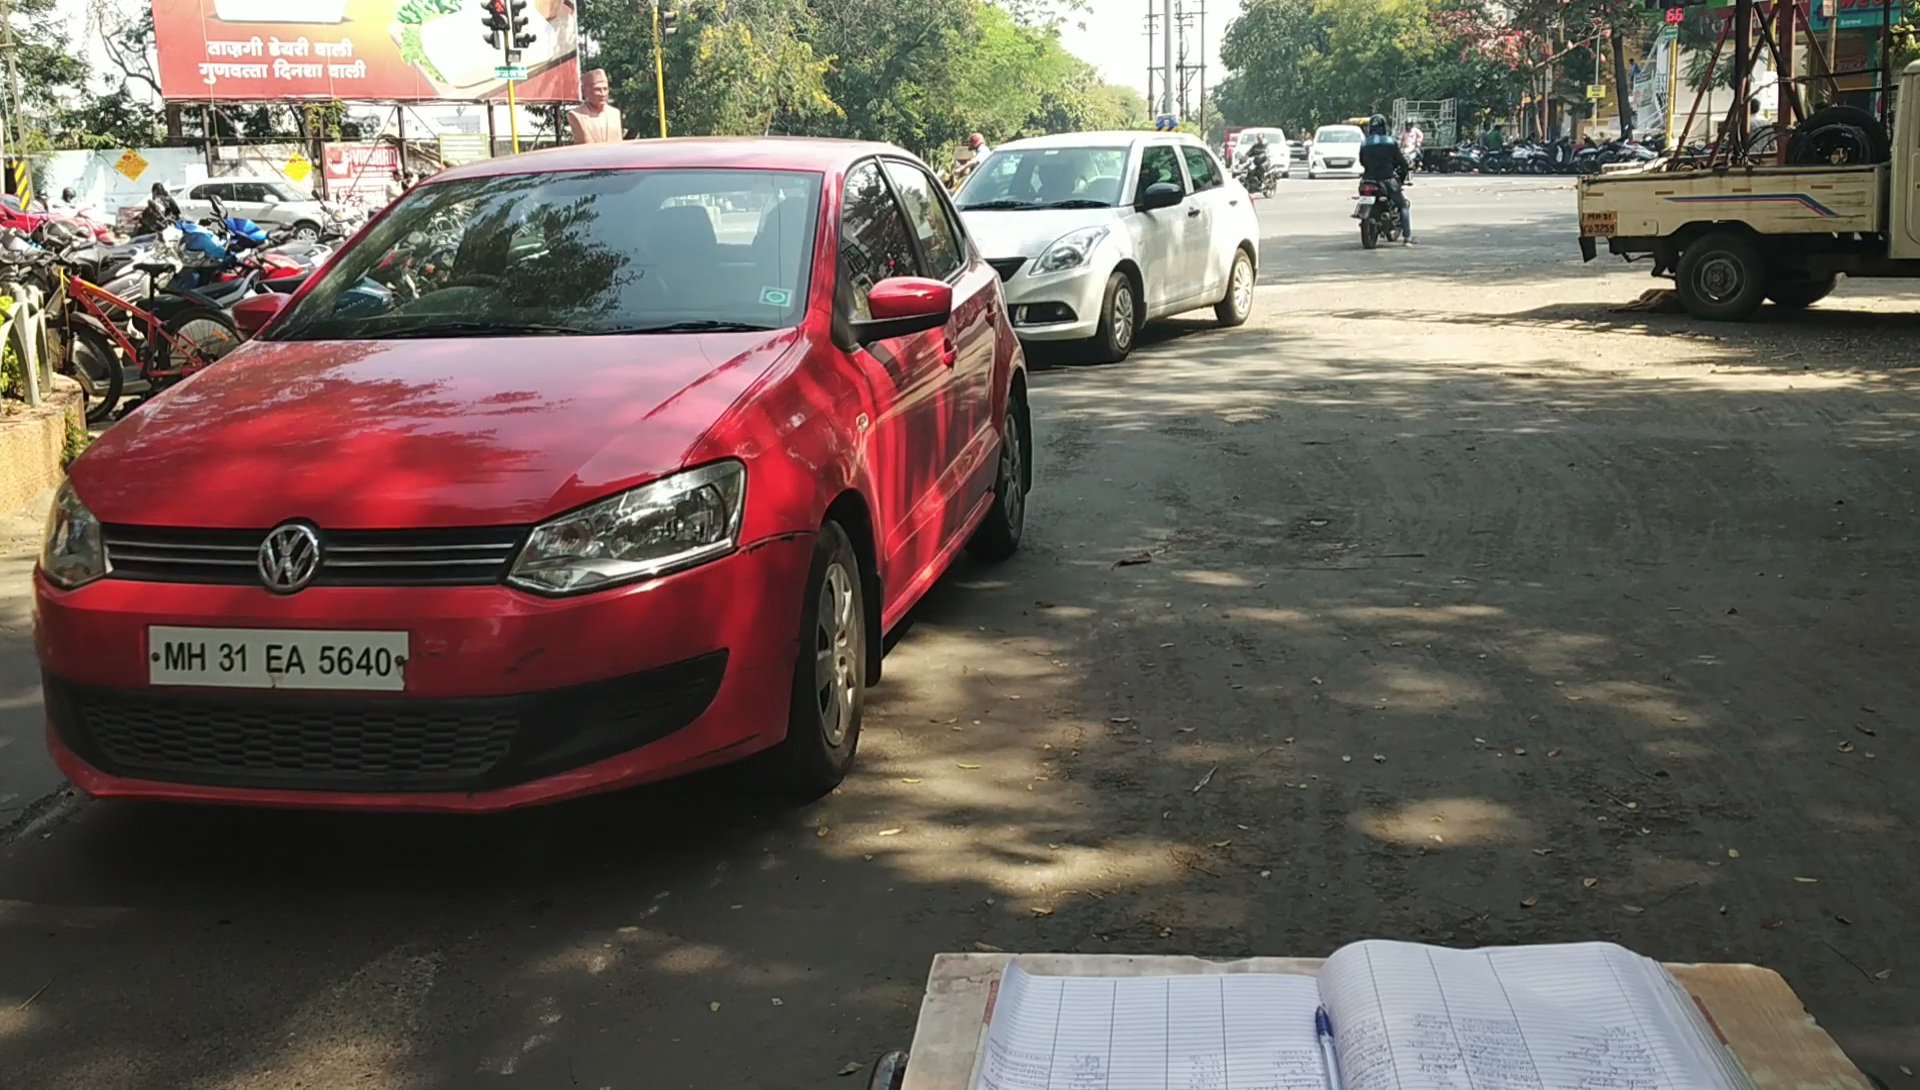car: (68, 121, 1042, 828)
numplate: (140, 619, 422, 707)
